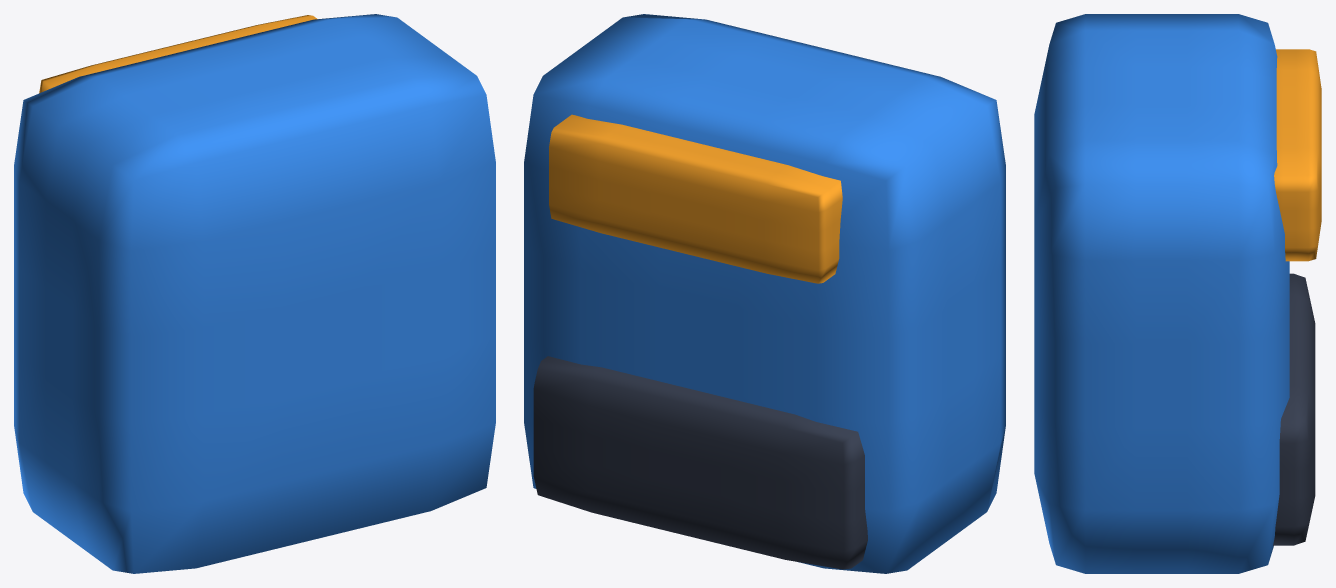
File: core_battery.obj
The picture shows the model from 3 angles, left to right: view 1: azimuth 30°, elevation 25°; view 2: azimuth 150°, elevation 25°; view 3: azimuth 270°, elevation 25°; orthographic projection. The views are drawn at different scales.
Bounding box in the file's own units: 0.34 × 0.36 × 0.225.
